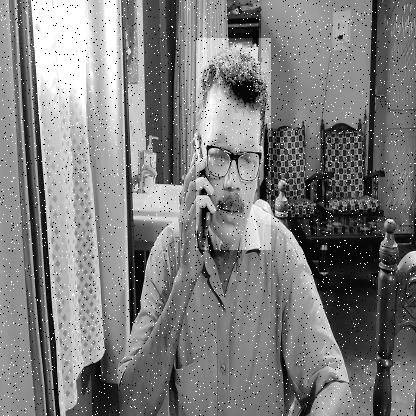Normal: (196, 38, 271, 250)
